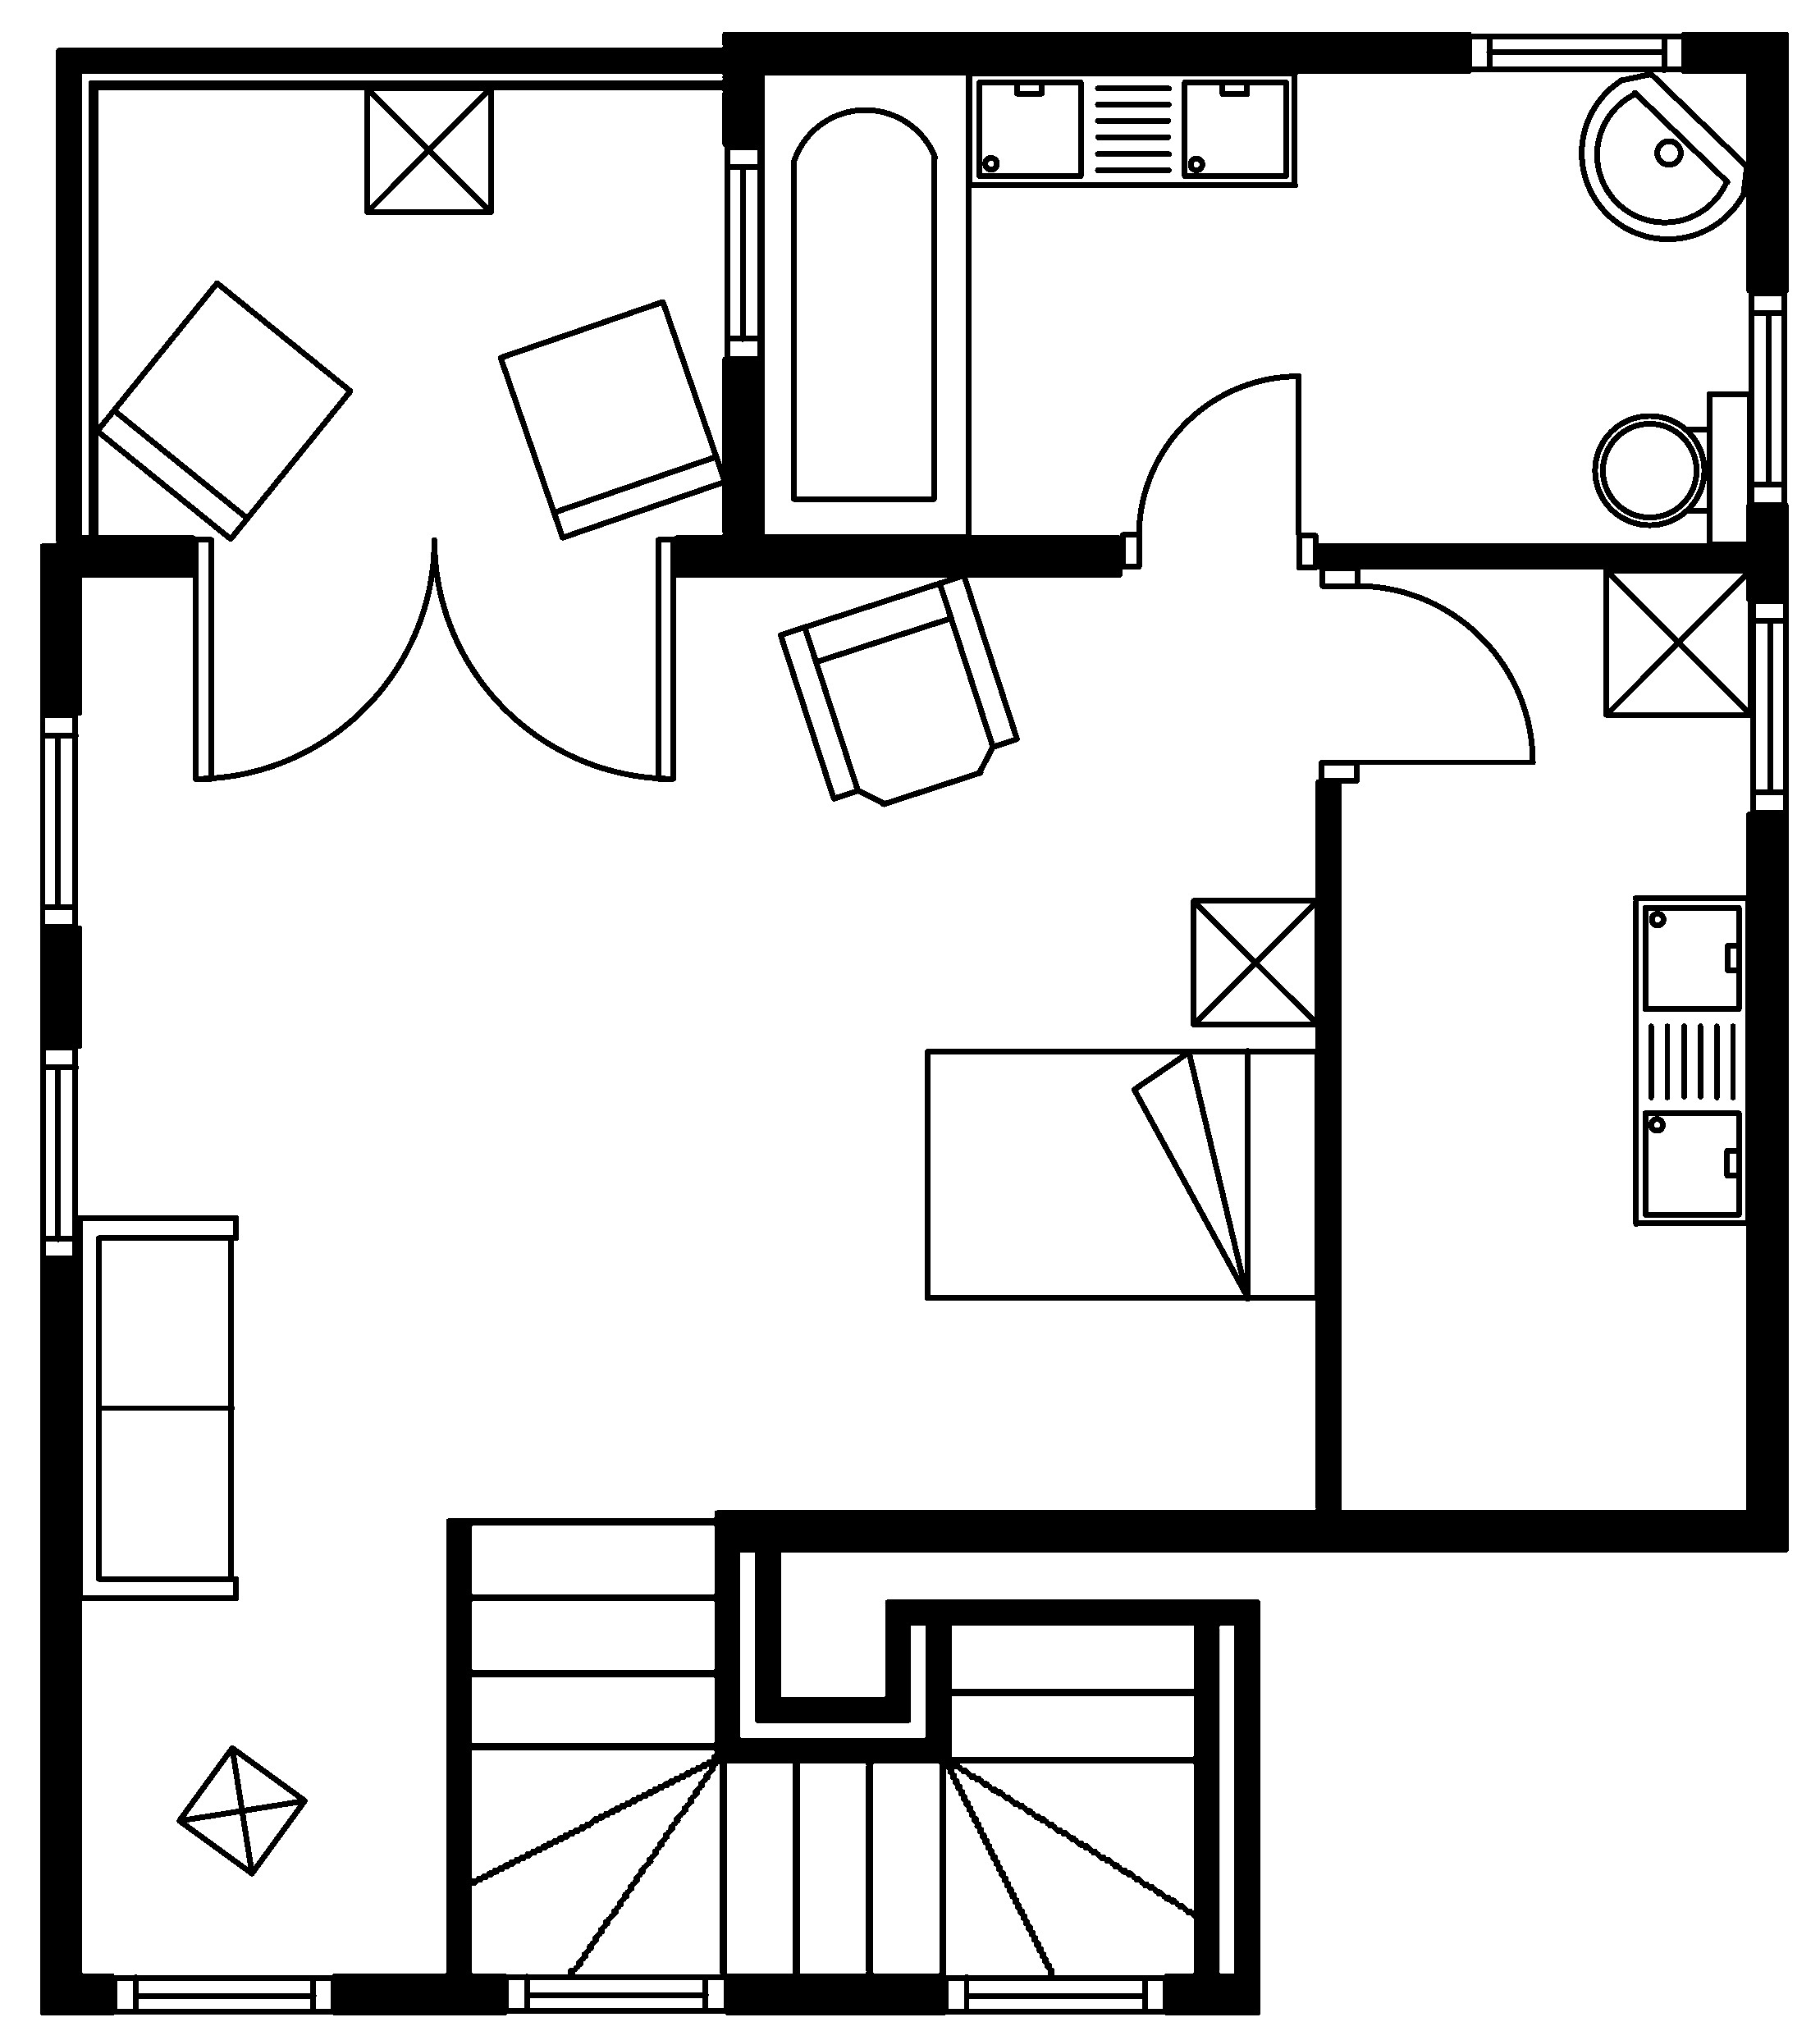armchair: (776, 571, 1021, 808)
bed: (922, 1047, 1321, 1302)
coffee_table: (1602, 566, 1753, 719), (174, 1745, 307, 1876), (1189, 896, 1321, 1028), (362, 84, 494, 214)
large_sink: (1592, 388, 1753, 548)
large_sofa: (76, 1212, 239, 1602)
small_sink: (1578, 70, 1750, 241)
small_sofa: (93, 278, 353, 543), (495, 297, 727, 541)
tub: (757, 69, 971, 539)
twin_sink: (964, 69, 1298, 188), (1630, 894, 1750, 1226)
